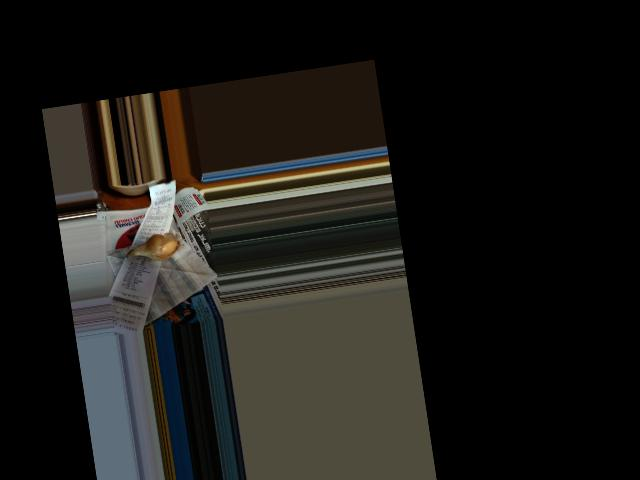onion: (132, 231, 179, 267)
